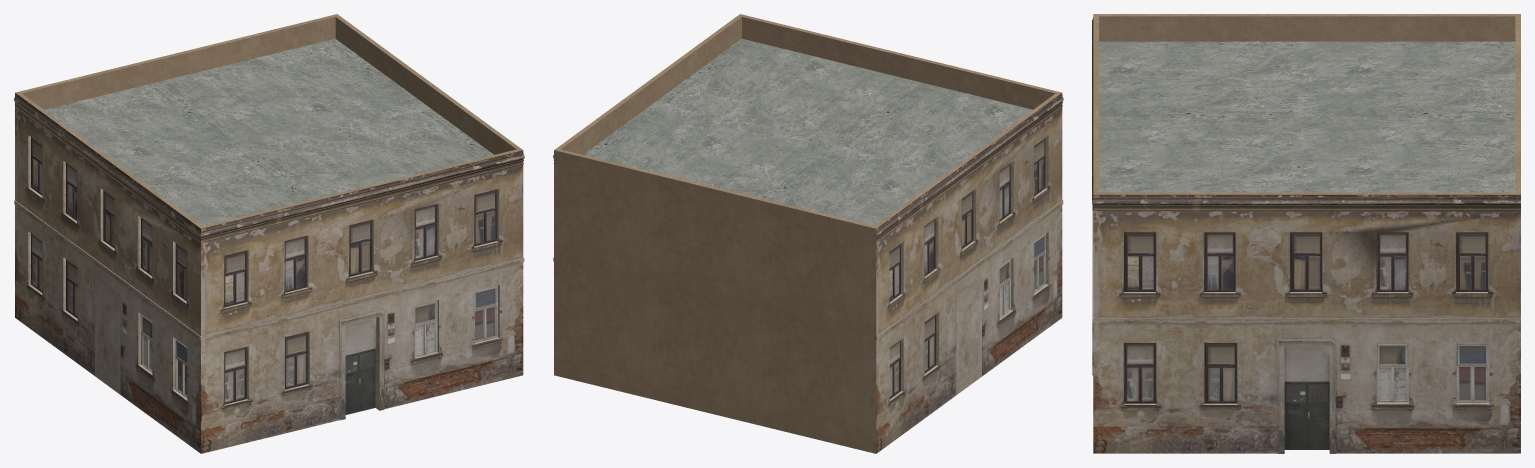
File: Old_Building.obj
3 renders of one model, left to right at view 1: azimuth 30°, elevation 25°; view 2: azimuth 150°, elevation 25°; view 3: azimuth 270°, elevation 25°, orthographic. The views are drawn at different scales.
Parts seen in each view (by area): view 1: Old_Building; view 2: Old_Building; view 3: Old_Building.
Part boxes in pixels (left/top/right/bottom): Old_Building: left=14, top=14, right=524, bottom=453; Old_Building: left=553, top=14, right=1063, bottom=453; Old_Building: left=1092, top=14, right=1520, bottom=453.
Size of the model in its own units: 148 by 98.47 by 148.
Materials: 3 (3 with a texture image).
